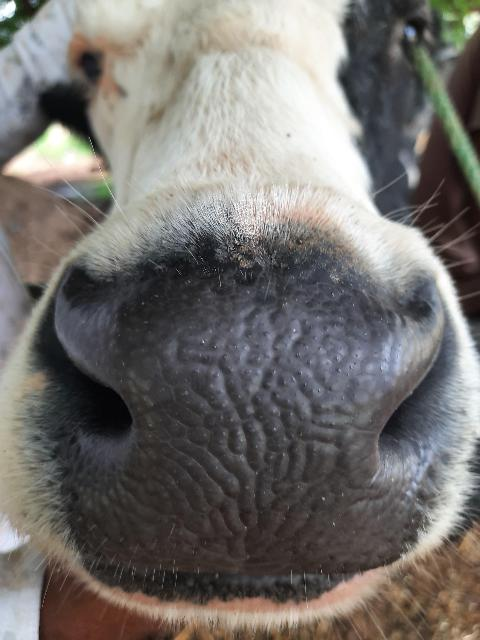Muzzle: (132, 299, 366, 565)
